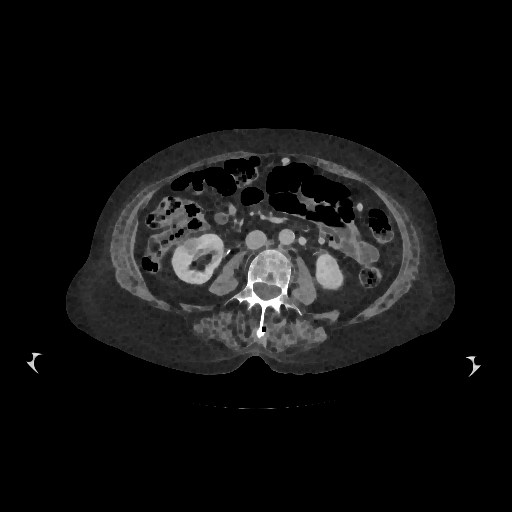Lesion: (180, 239, 199, 255)
